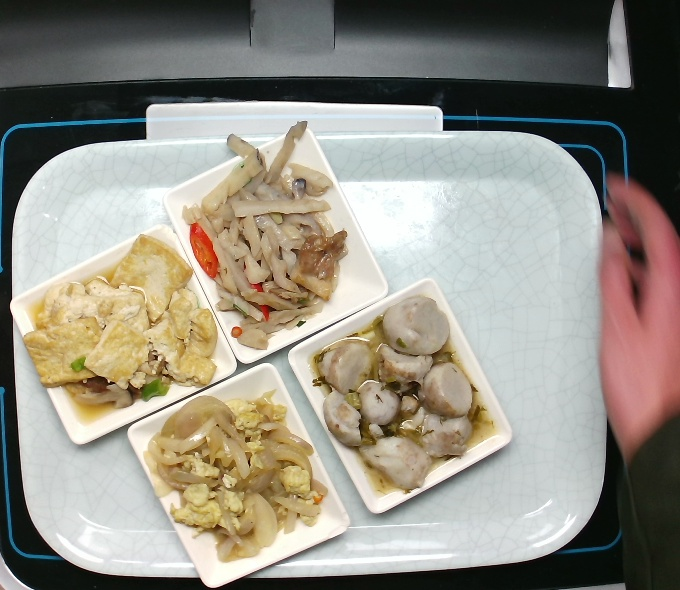wcq-JiaChangDouFu: (24, 230, 218, 404)
wcq-QingChaoOuPian: (177, 121, 351, 349)
wcq-YangCongChaoDan: (150, 387, 324, 568)
wcq-YangYu: (309, 292, 492, 500)
